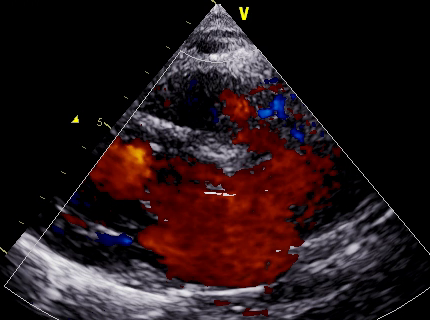AR: (130, 140, 325, 218)
